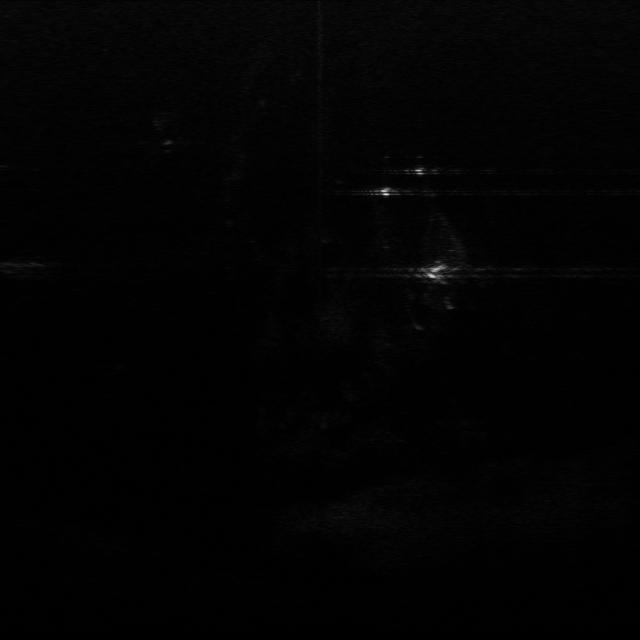rov: (416, 260, 458, 284)
